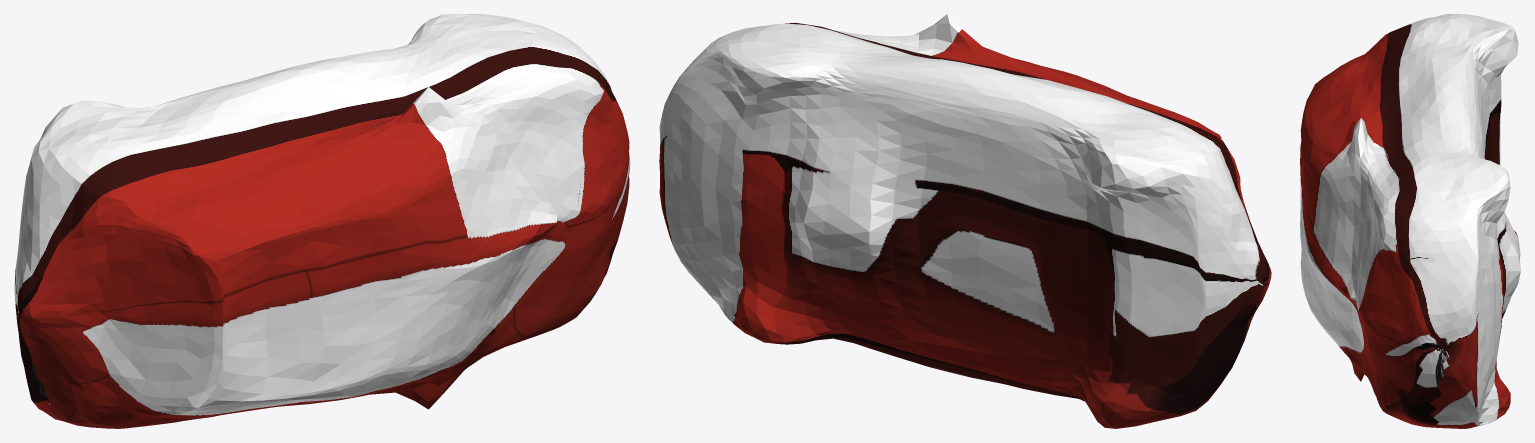
The model's file is car.obj.
3 renders of one model, left to right at view 1: azimuth 30°, elevation 25°; view 2: azimuth 150°, elevation 25°; view 3: azimuth 270°, elevation 25°, orthographic. The views are drawn at different scales.
Visible parts, largest first — view 1: car; view 2: car; view 3: car.
Boxes of the visible parts, bbox=[...] form: car: bbox=[14, 14, 630, 428]; car: bbox=[659, 14, 1271, 428]; car: bbox=[1300, 14, 1520, 428].
Size of the model in its own units: 2.15 by 1.08 by 0.8197.
